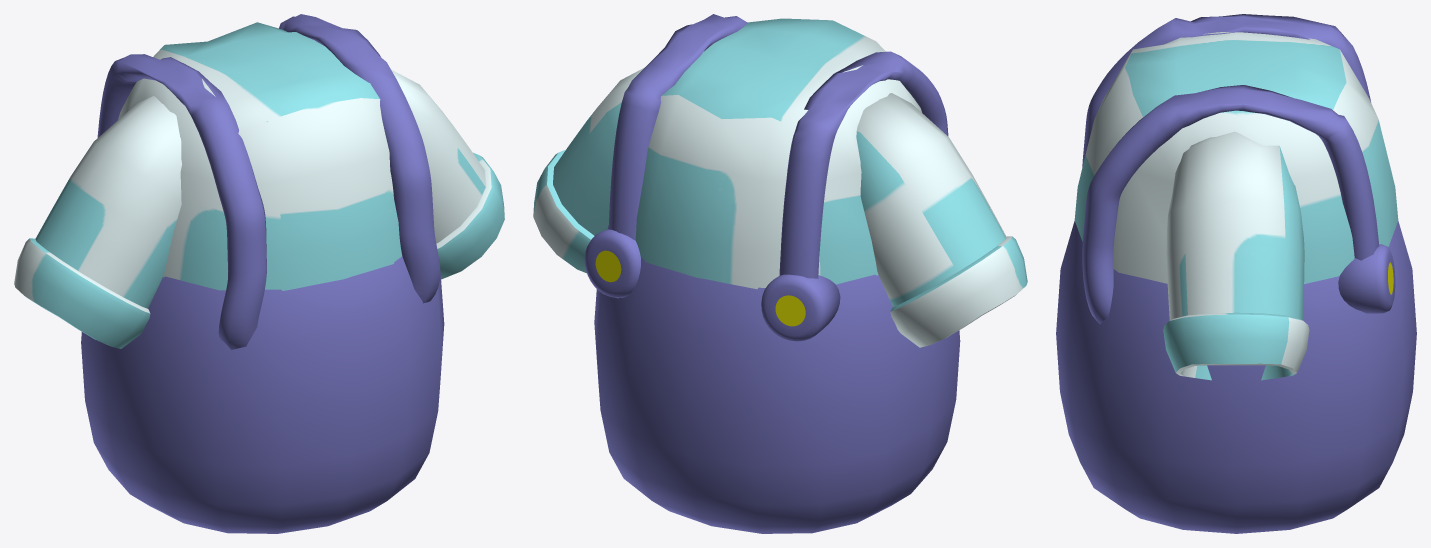
File: item-farmer-overalls.glb
3 renders of one model, left to right at view 1: azimuth 30°, elevation 25°; view 2: azimuth 150°, elevation 25°; view 3: azimuth 270°, elevation 25°, orthographic.
Bounding box in the file's own units: 0.1256 × 0.1126 × 0.0834.
Materials: 3 (1 with a texture image).
